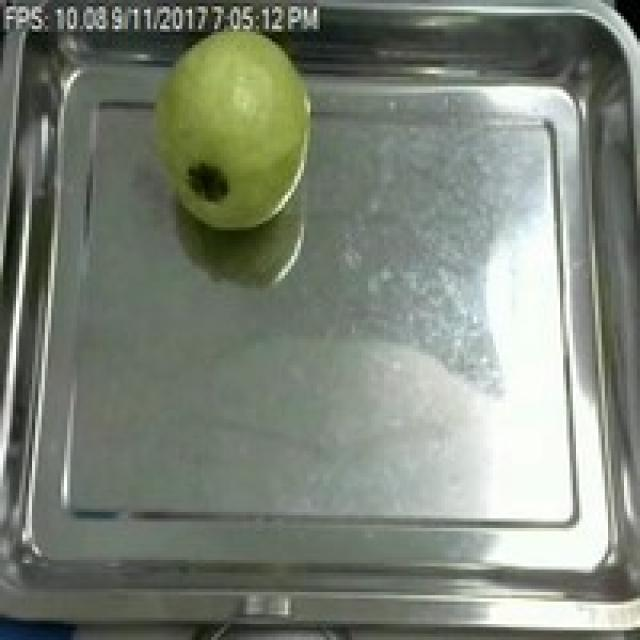Fruit: (138, 7, 320, 244)
